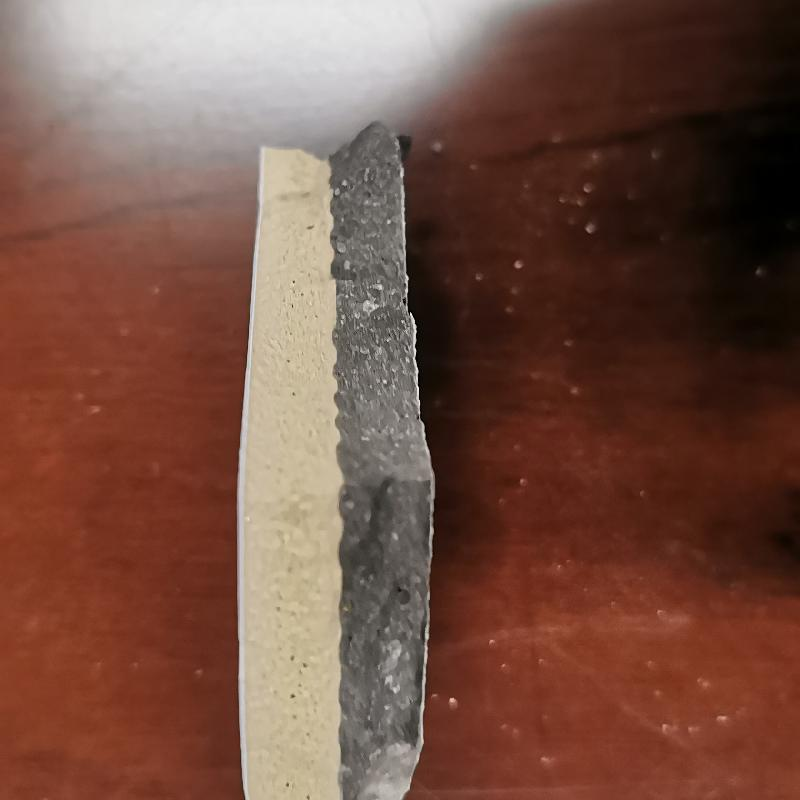tile: (228, 125, 439, 800)
